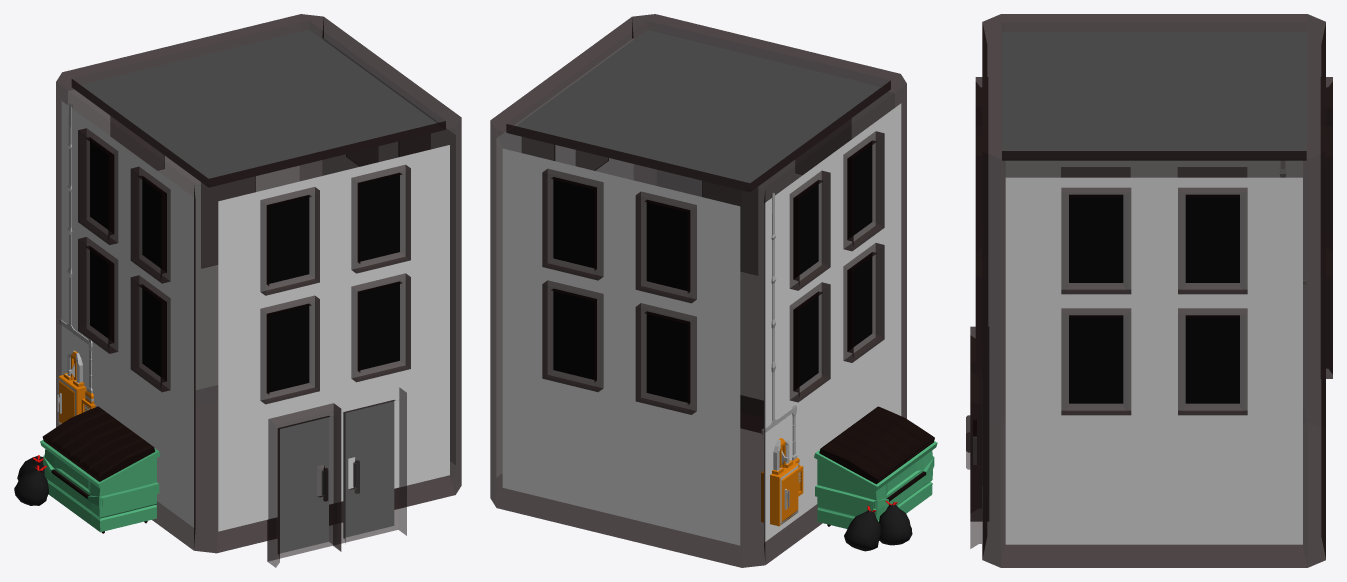
The model's file is Building3_fin.fbx.
The picture shows the model from 3 angles, left to right: view 1: azimuth 30°, elevation 25°; view 2: azimuth 150°, elevation 25°; view 3: azimuth 270°, elevation 25°; orthographic projection. The views are drawn at different scales.
Visible parts, largest first — view 1: Cube.018; view 2: Cube.018; view 3: Cube.018.
Boxes of the visible parts, x1,y1,x2,y2 form: Cube.018: [14, 14, 461, 567]; Cube.018: [490, 14, 937, 567]; Cube.018: [966, 14, 1332, 567].
Bounding box in the file's own units: 272 × 279 × 213.
